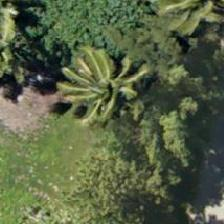coconut_tree: (60, 37, 150, 127), (144, 0, 223, 49)
